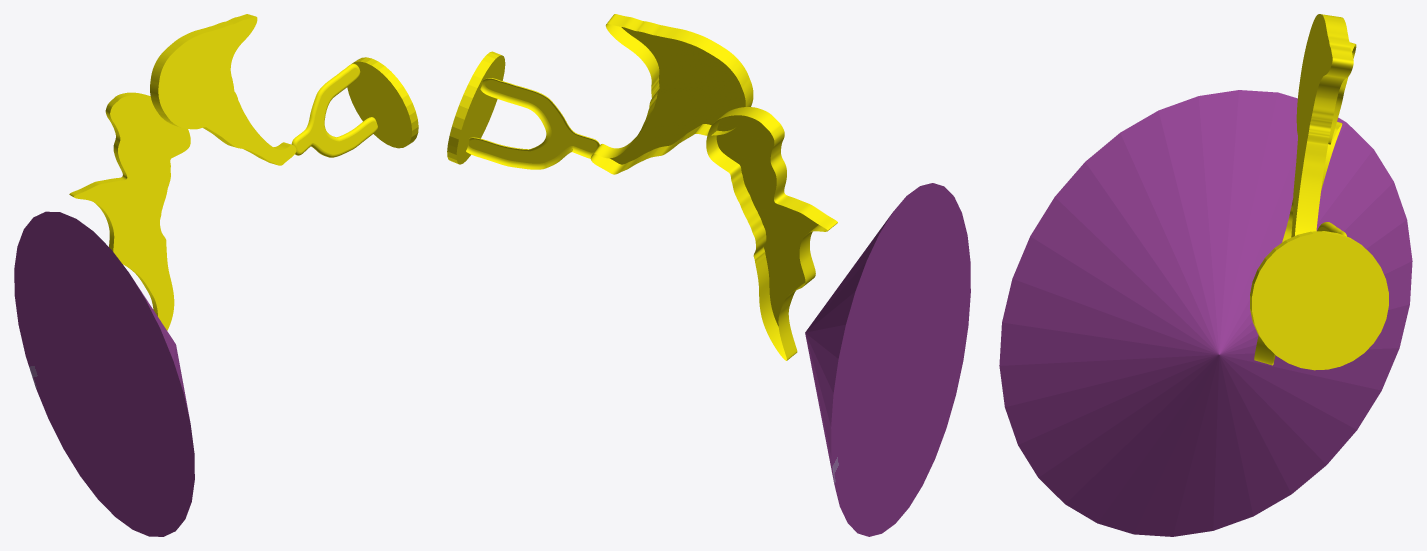
The model's file is timpano_der.obj.
3 views of the same model, side by side, from view 1: azimuth 30°, elevation 25°; view 2: azimuth 150°, elevation 25°; view 3: azimuth 270°, elevation 25° (orthographic). The views are drawn at different scales.
Visible parts, largest first — view 1: Timpano_Cone, Martillo_BezierCircle, Yunque_BezierCircle.002, Estribillo_p2_Cylinder.001, Estribillo_p1_BezierCircle.001; view 2: Timpano_Cone, Martillo_BezierCircle, Yunque_BezierCircle.002, Estribillo_p1_BezierCircle.001, Estribillo_p2_Cylinder.001; view 3: Timpano_Cone, Estribillo_p2_Cylinder.001, Yunque_BezierCircle.002, Martillo_BezierCircle.
Boxes of the visible parts, <box> form: Timpano_Cone: <box>14,211,194,536</box>; Martillo_BezierCircle: <box>69,92,190,330</box>; Yunque_BezierCircle.002: <box>150,14,296,165</box>; Estribillo_p2_Cylinder.001: <box>347,57,418,148</box>; Estribillo_p1_BezierCircle.001: <box>291,63,377,157</box>; Timpano_Cone: <box>805,183,970,536</box>; Martillo_BezierCircle: <box>706,107,837,360</box>; Yunque_BezierCircle.002: <box>590,14,753,174</box>; Estribillo_p1_BezierCircle.001: <box>466,78,599,169</box>; Estribillo_p2_Cylinder.001: <box>447,51,505,164</box>; Timpano_Cone: <box>999,90,1412,536</box>; Estribillo_p2_Cylinder.001: <box>1250,231,1388,370</box>; Yunque_BezierCircle.002: <box>1291,14,1353,237</box>; Martillo_BezierCircle: <box>1254,42,1356,365</box>.
Bounding box in the file's own units: 0.0458 × 0.0528 × 0.0328.
